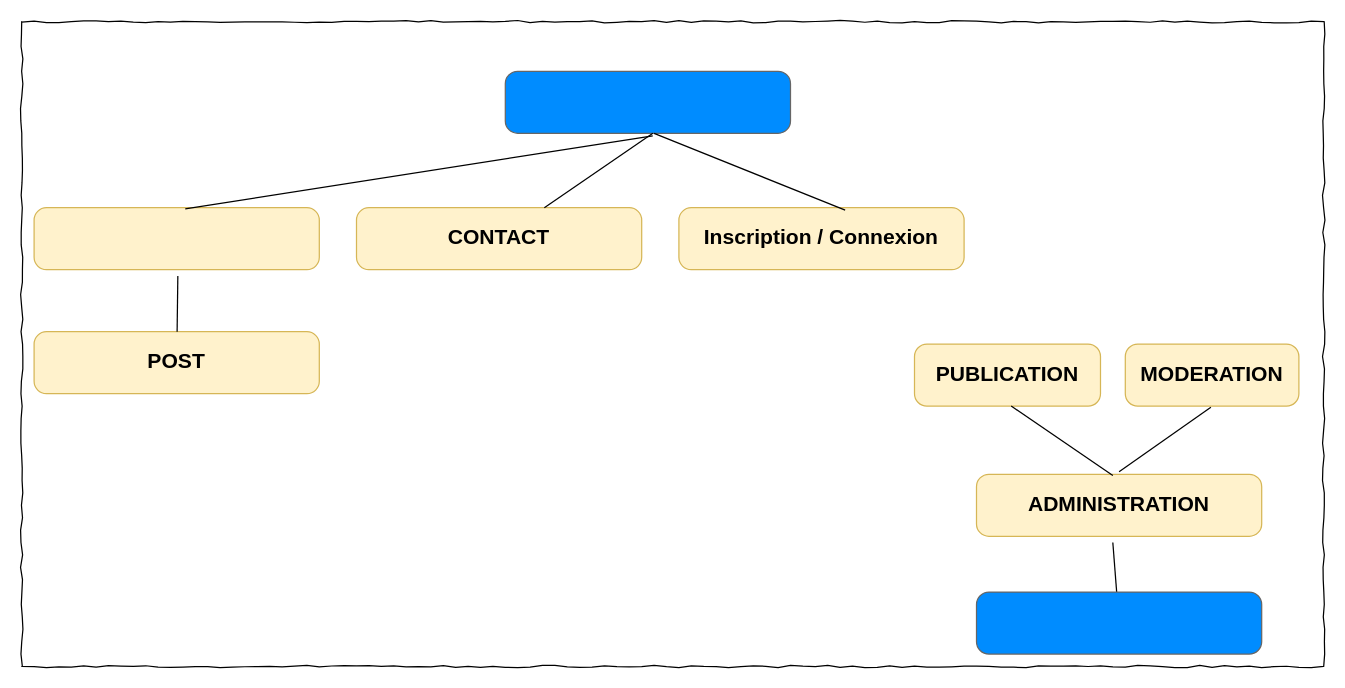
This 1345x688 diagram has some shape labels left out. Here are the shapes that lost their labels. From the top down, the centre of each, then its label:
the point at 647,101: ACCUEIL
the point at 176,238: BLOGS
the point at 1118,622: FOOTER
